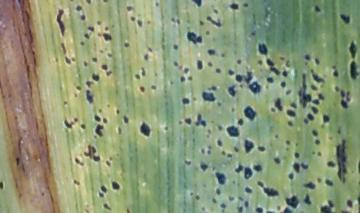tarspot: (334, 138, 347, 184), (299, 72, 311, 109), (83, 144, 101, 162), (55, 8, 66, 36), (186, 31, 203, 45), (243, 104, 256, 122), (206, 14, 222, 28), (311, 68, 325, 83), (350, 60, 360, 80), (194, 114, 207, 129), (263, 186, 279, 198), (286, 195, 300, 208), (140, 122, 151, 137), (348, 41, 357, 59), (249, 82, 262, 94), (226, 126, 239, 138), (203, 90, 215, 102), (245, 138, 254, 154), (215, 172, 226, 185), (94, 123, 104, 137), (243, 70, 253, 84), (274, 98, 283, 113), (258, 42, 268, 55), (339, 13, 350, 24), (110, 180, 121, 191), (302, 193, 312, 205), (86, 89, 94, 103), (227, 84, 236, 96), (244, 167, 253, 179), (63, 119, 73, 129), (339, 98, 348, 109), (304, 182, 316, 190), (320, 206, 333, 213), (103, 32, 112, 42), (253, 163, 262, 173), (60, 43, 68, 54), (292, 162, 300, 173), (75, 158, 84, 167), (234, 73, 243, 82), (103, 202, 112, 211), (92, 72, 100, 82), (229, 2, 239, 10), (265, 76, 275, 84), (271, 67, 279, 77), (325, 161, 336, 168), (64, 56, 72, 65), (197, 59, 203, 71), (266, 58, 274, 67), (307, 113, 315, 122), (311, 107, 320, 115), (326, 199, 334, 208), (325, 179, 334, 187), (300, 162, 309, 170), (72, 178, 81, 186), (100, 184, 108, 193), (192, 1, 202, 8), (184, 117, 191, 127), (286, 110, 296, 117), (201, 162, 208, 172), (15, 156, 21, 167), (282, 207, 293, 213), (284, 61, 292, 69), (313, 5, 321, 13), (311, 84, 319, 92), (312, 98, 320, 106), (322, 114, 330, 122), (313, 138, 321, 146), (207, 48, 216, 55), (215, 138, 222, 147), (272, 157, 281, 164), (346, 199, 353, 208), (214, 186, 221, 195), (123, 115, 129, 125), (86, 81, 94, 88), (93, 115, 101, 122), (133, 73, 141, 80), (182, 97, 189, 105), (290, 102, 297, 110), (287, 120, 294, 128), (312, 129, 319, 137), (236, 164, 243, 172), (245, 186, 252, 194), (255, 206, 263, 213), (208, 86, 219, 91), (257, 146, 266, 152), (314, 57, 320, 66), (357, 195, 360, 213), (141, 67, 146, 77), (117, 126, 122, 136), (340, 88, 345, 98), (79, 14, 86, 21), (75, 5, 82, 12), (150, 84, 157, 91), (172, 60, 179, 67), (207, 61, 214, 68), (217, 124, 224, 131), (304, 54, 311, 61), (332, 70, 339, 77), (257, 181, 264, 188), (221, 203, 228, 210), (137, 20, 143, 28), (143, 53, 149, 61), (139, 85, 145, 93), (173, 43, 179, 51), (129, 16, 137, 22), (183, 159, 191, 165), (238, 118, 244, 126), (282, 70, 288, 78), (319, 93, 325, 101), (227, 195, 235, 201), (244, 200, 249, 209), (91, 57, 98, 63), (84, 33, 91, 39), (88, 25, 95, 31), (106, 70, 112, 77), (102, 64, 108, 71), (80, 124, 87, 130), (170, 17, 177, 23), (180, 76, 186, 83), (105, 160, 111, 167), (215, 67, 221, 74), (200, 147, 206, 154), (220, 149, 226, 156), (242, 2, 249, 8), (227, 69, 234, 75), (280, 81, 286, 88), (285, 139, 291, 146), (294, 152, 300, 159), (334, 85, 340, 92), (316, 177, 322, 184), (238, 195, 244, 202), (73, 91, 79, 98), (337, 128, 342, 136), (237, 205, 242, 213), (98, 193, 106, 198), (96, 20, 102, 26), (76, 85, 82, 91), (124, 42, 130, 48), (126, 6, 132, 12), (184, 68, 190, 74), (102, 118, 108, 124), (213, 9, 219, 15), (206, 150, 212, 156), (251, 31, 257, 37), (236, 58, 242, 64), (238, 83, 244, 89), (270, 107, 276, 113), (279, 56, 285, 62), (274, 134, 280, 140), (303, 119, 309, 125), (192, 96, 198, 102), (195, 195, 201, 201), (98, 48, 104, 54), (71, 55, 76, 62), (234, 146, 239, 153), (289, 173, 294, 180), (212, 197, 217, 204), (342, 210, 353, 213), (265, 210, 276, 213), (83, 61, 88, 67), (63, 100, 68, 106), (199, 20, 204, 26), (187, 76, 193, 81), (155, 2, 160, 8), (206, 145, 212, 150), (258, 60, 263, 66), (286, 90, 291, 96), (346, 90, 351, 96), (317, 151, 322, 157), (328, 135, 333, 141), (227, 153, 233, 158), (189, 191, 194, 197), (201, 207, 206, 213), (1, 181, 4, 191), (126, 208, 132, 213), (106, 102, 111, 108), (74, 116, 78, 123), (358, 161, 360, 174), (80, 41, 85, 46), (98, 108, 103, 113), (148, 47, 153, 52), (178, 121, 183, 126), (217, 102, 222, 107), (116, 109, 120, 115), (108, 52, 112, 58), (177, 19, 181, 25), (221, 52, 225, 58), (208, 129, 212, 135), (312, 150, 316, 156), (231, 107, 235, 113), (170, 80, 174, 86), (277, 205, 281, 211), (295, 141, 299, 147), (86, 1, 91, 5), (105, 26, 109, 31), (165, 126, 169, 131), (332, 65, 336, 70), (321, 124, 325, 129), (146, 20, 151, 24), (286, 146, 290, 151), (42, 191, 45, 197), (98, 33, 102, 37), (206, 31, 210, 35), (221, 209, 225, 213), (103, 1, 108, 3)
